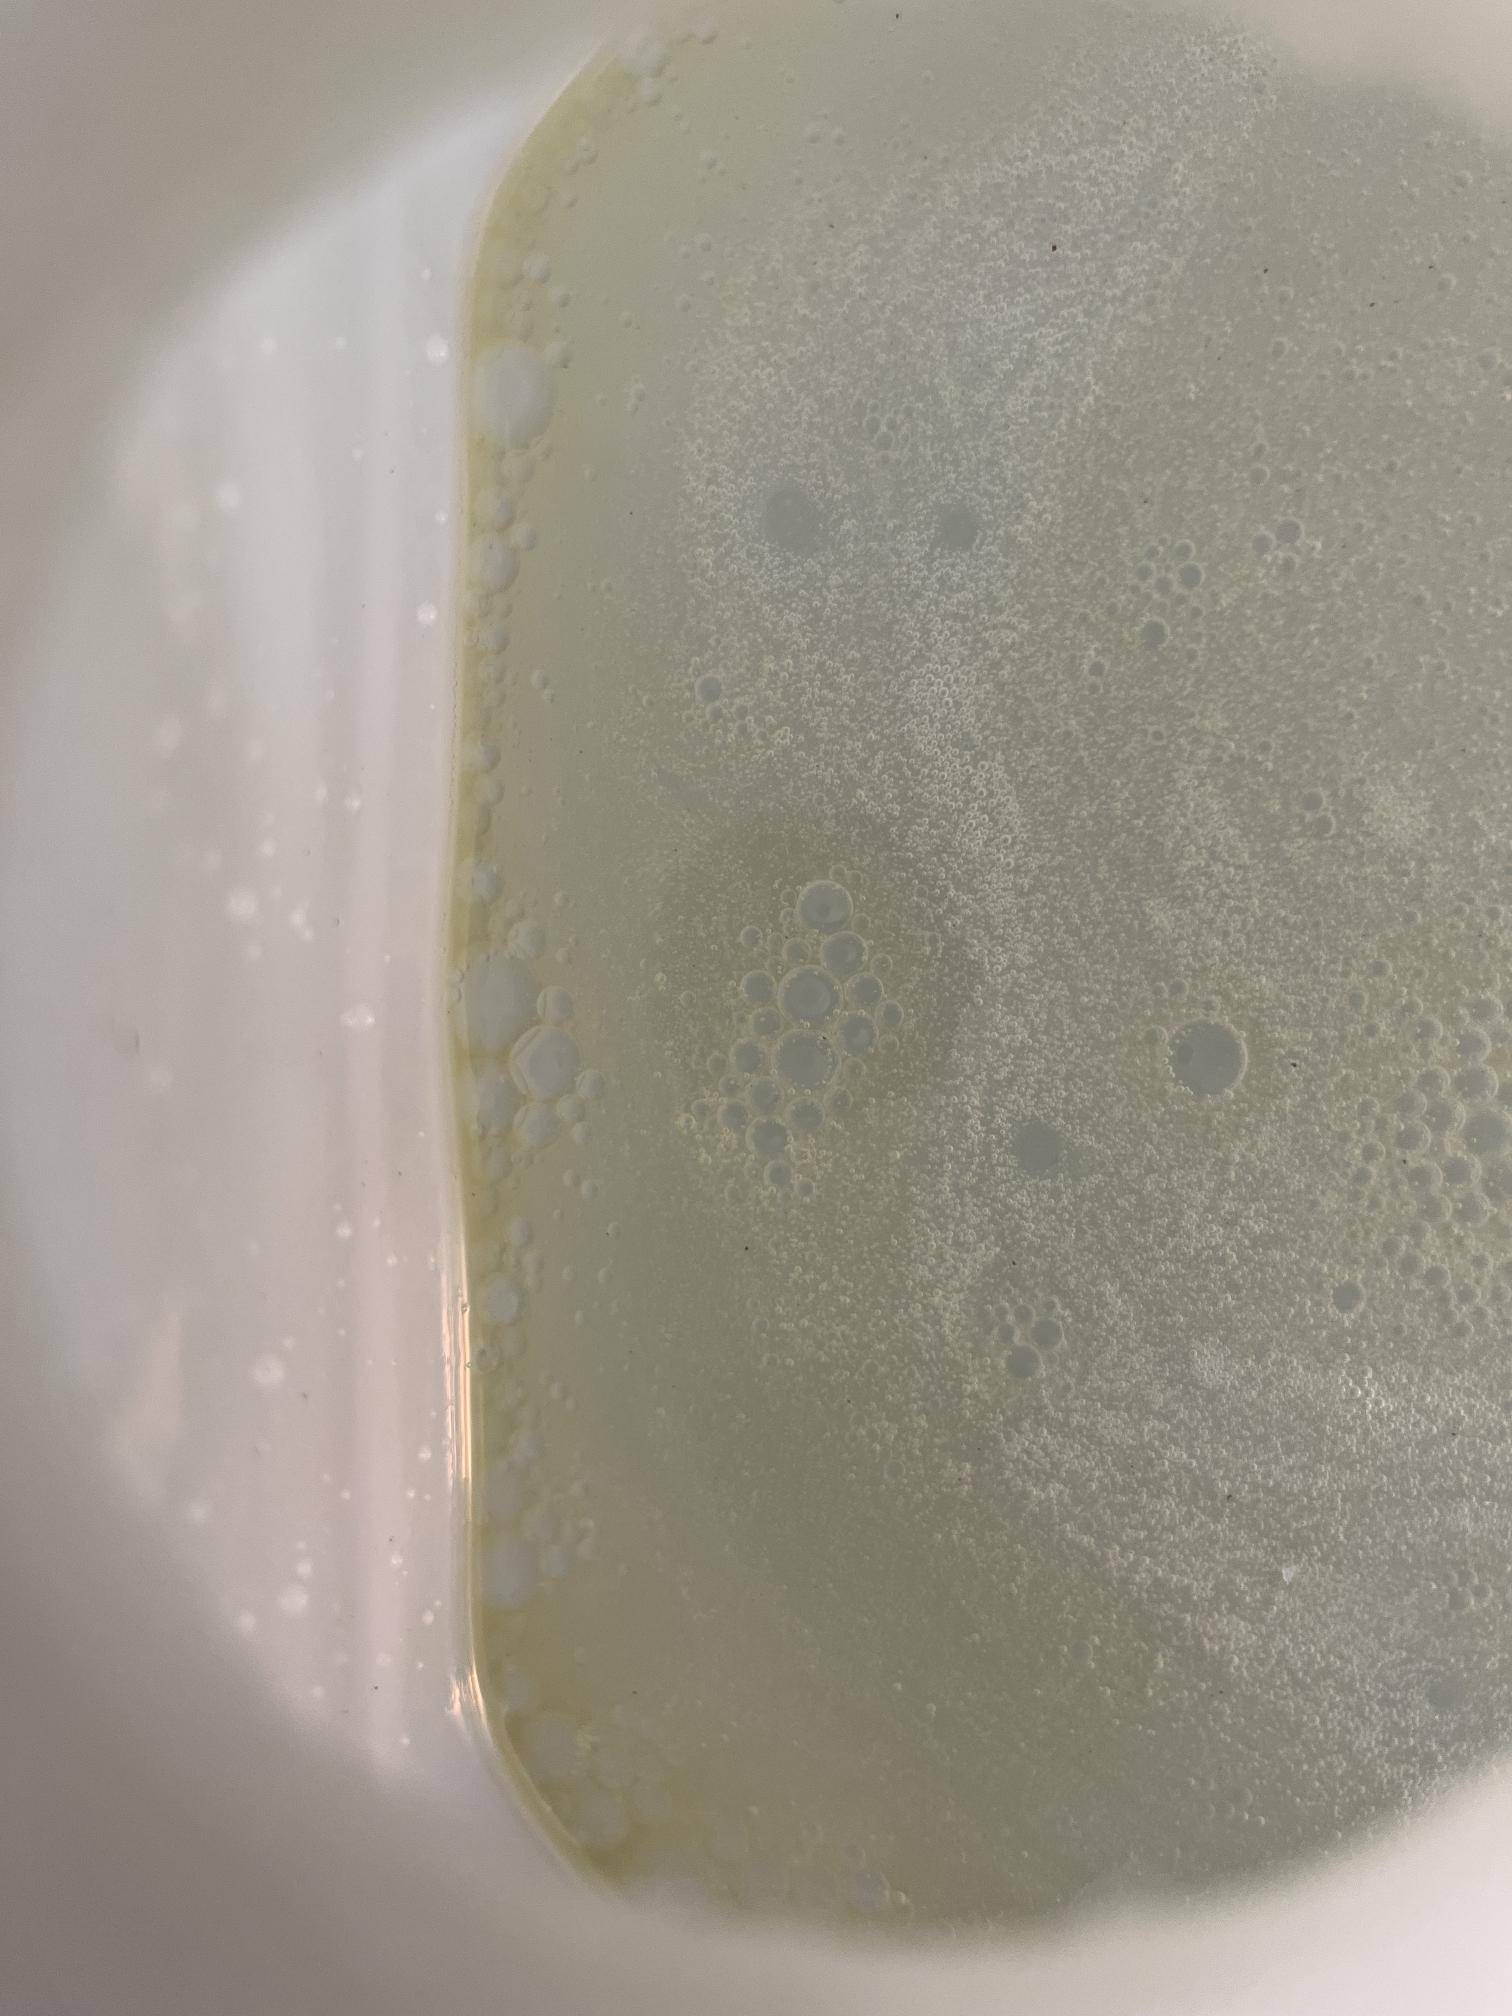Presenca de Oleo - - 110ml: (160, 86, 1464, 1960)
